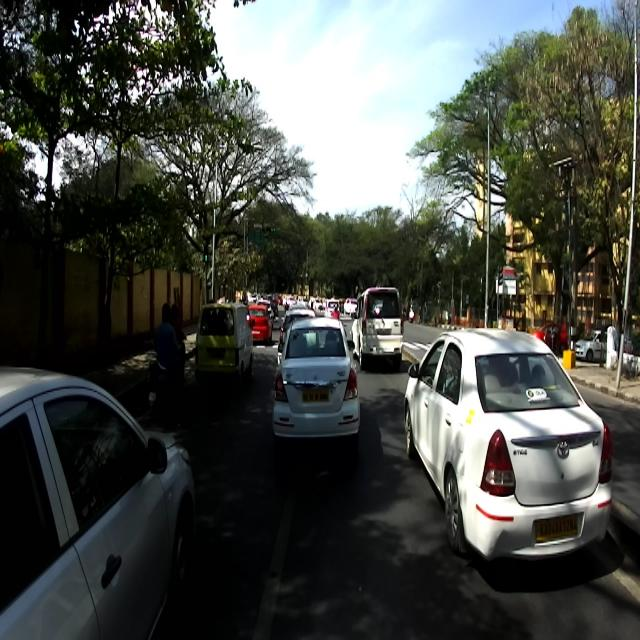car: (0, 365, 196, 639), (402, 326, 612, 566), (271, 316, 360, 461), (193, 298, 255, 391), (352, 285, 406, 362), (247, 302, 272, 345)
scooter: (146, 335, 188, 426)
